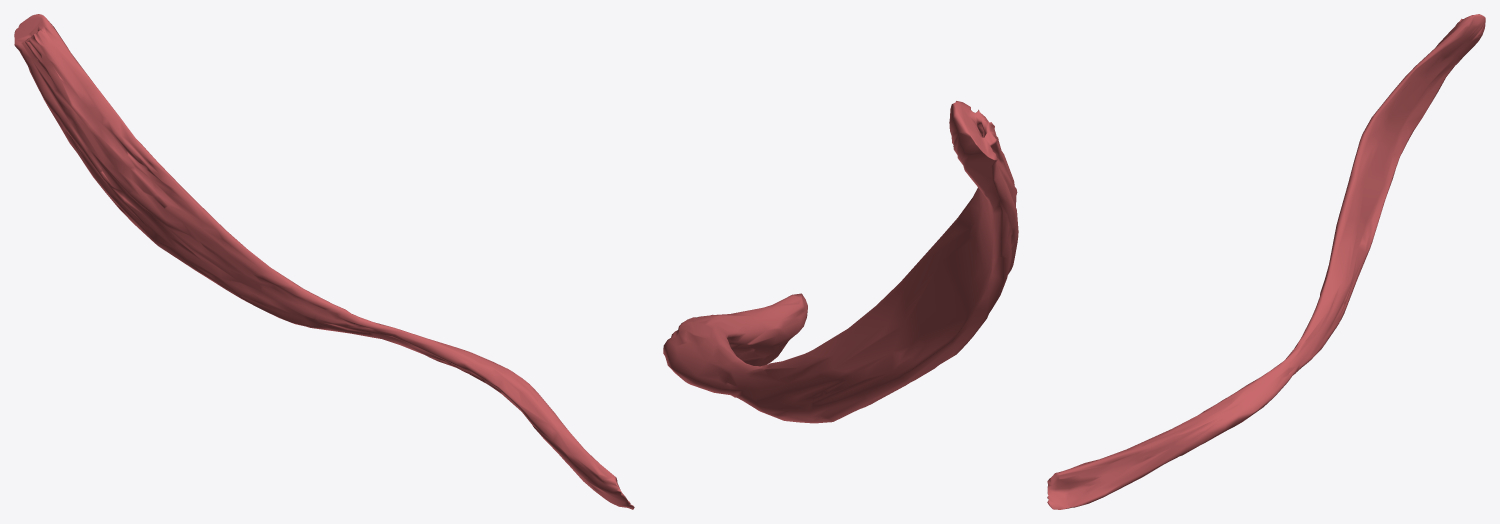
The picture shows the model from 3 angles, left to right: view 1: azimuth 30°, elevation 25°; view 2: azimuth 150°, elevation 25°; view 3: azimuth 270°, elevation 25°; orthographic projection. The views are drawn at different scales.
Visible parts, largest first — view 1: 右侧肩胛舌骨肌; view 2: 右侧肩胛舌骨肌; view 3: 右侧肩胛舌骨肌.
Boxes of the visible parts, box(x1,y1,x2,y2) form: 右侧肩胛舌骨肌: box(14, 14, 634, 509); 右侧肩胛舌骨肌: box(663, 101, 1018, 423); 右侧肩胛舌骨肌: box(1047, 14, 1485, 509).
Size of the model in its own units: 0.1338 by 0.1377 by 0.157.
